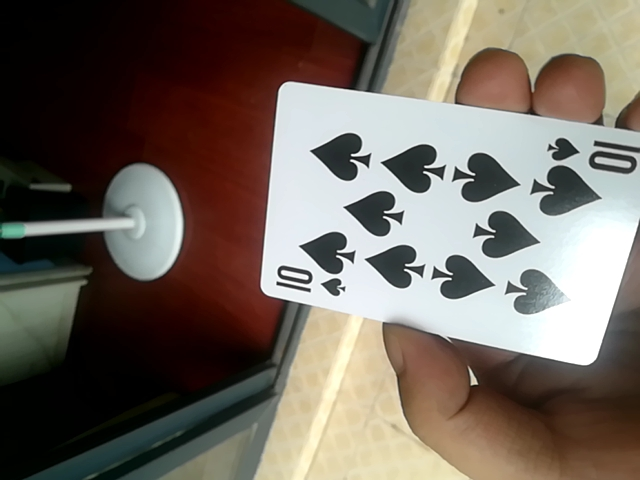ht 10: (259, 79, 639, 370)
